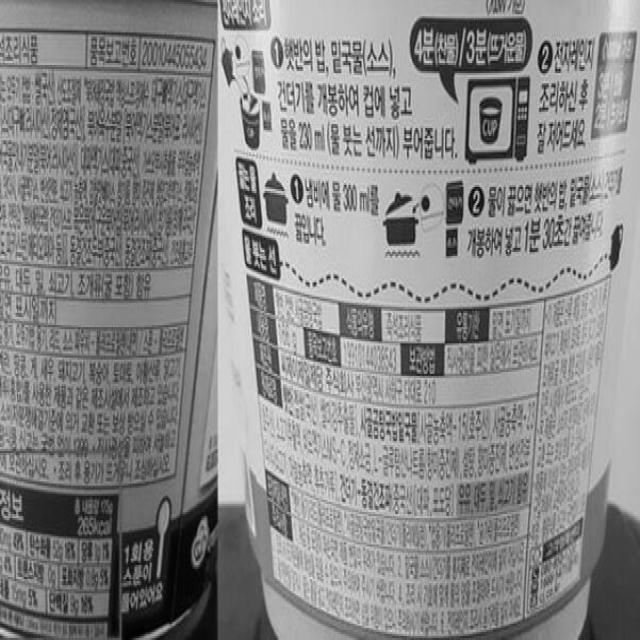Nutrition Label: (0, 452, 122, 640)
